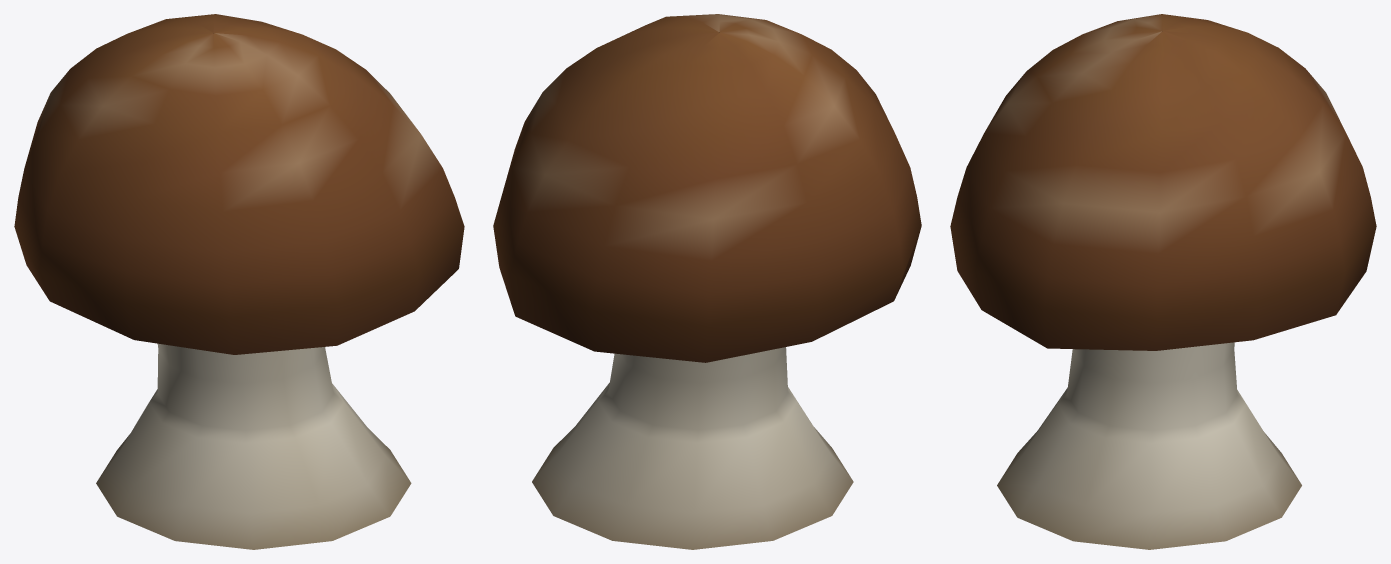
File: mushroom-bolete-b.glb
3 renders of one model, left to right at view 1: azimuth 30°, elevation 25°; view 2: azimuth 150°, elevation 25°; view 3: azimuth 270°, elevation 25°, orthographic. The views are drawn at different scales.
Parts seen in each view (by area): view 1: mushroom-bolete-b; view 2: mushroom-bolete-b; view 3: mushroom-bolete-b.
Part boxes in pixels (<box>): mushroom-bolete-b: <box>14,14,464,549</box>; mushroom-bolete-b: <box>493,14,921,549</box>; mushroom-bolete-b: <box>950,14,1376,549</box>.
Bounding box in the file's own units: 0.2243 × 0.25 × 0.2201.
